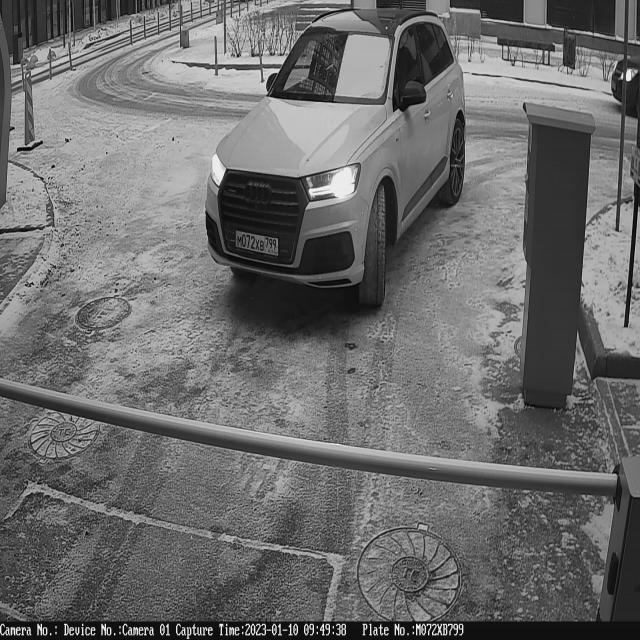car-plate-numbers: (234, 226, 282, 261)
